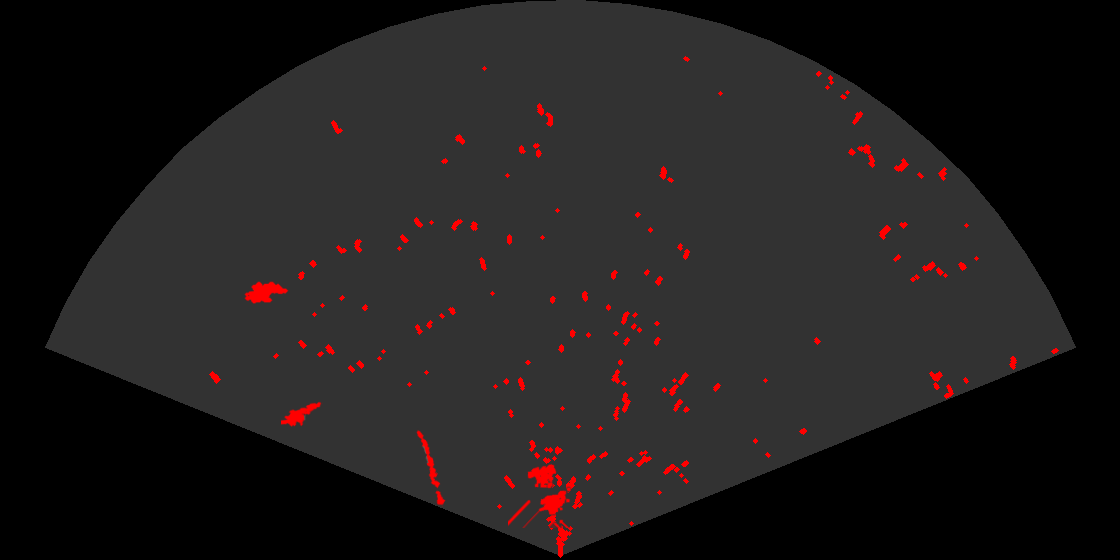AUV: (243, 280, 290, 305)
cage: (508, 462, 572, 528)
chain: (415, 428, 447, 507)
frogman: (281, 400, 323, 428)
